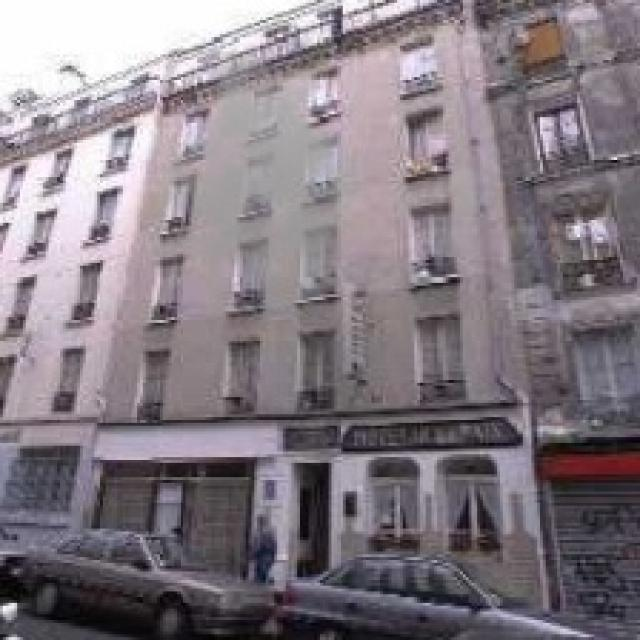Smoke: (151, 48, 383, 314)
